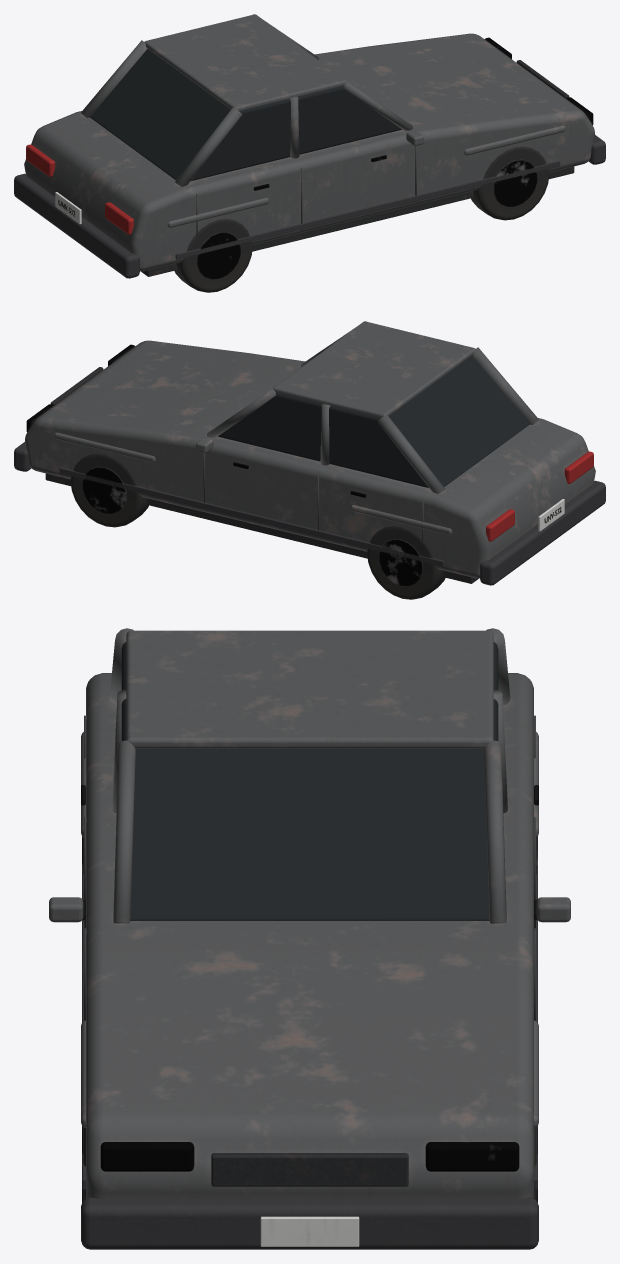
The model's file is auto_gris.glb.
3 views of the same model, one above another, from view 1: azimuth 30°, elevation 25°; view 2: azimuth 150°, elevation 25°; view 3: azimuth 270°, elevation 25° (orthographic). The views are drawn at different scales.
Visible parts, largest first — view 1: auto_gris; view 2: auto_gris; view 3: auto_gris.
Part boxes in pixels (x1,y1,x2,y2): auto_gris: (14,14,605,292); auto_gris: (14,321,605,599); auto_gris: (49,628,570,1249).
Bounding box in the file's own units: 4.56 × 1.54 × 2.12.
Materials: 3 (1 with a texture image).
